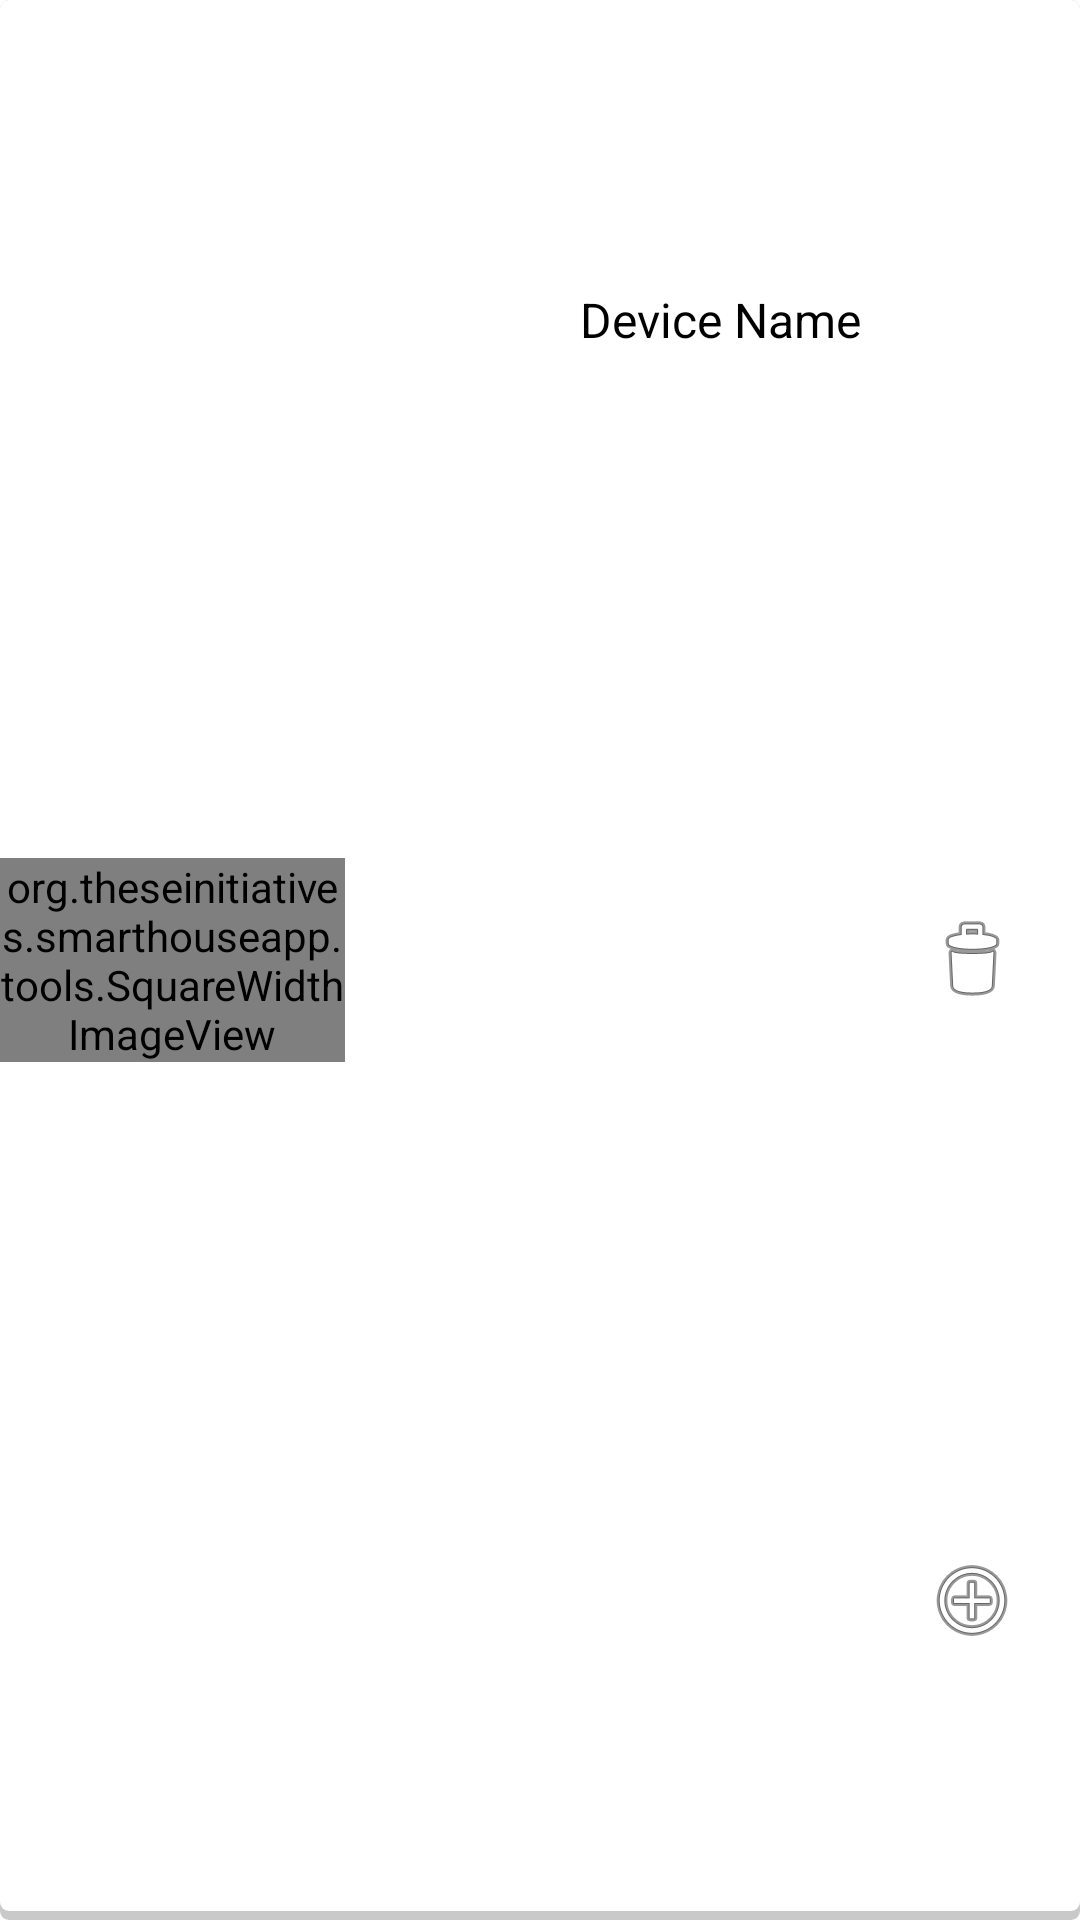

Icon bounding boxes for this 1080×1920 phone screenshot, format (x1, y1, x2, y2):
add: (936, 1565, 1008, 1636)
delete: (945, 921, 1000, 996)
